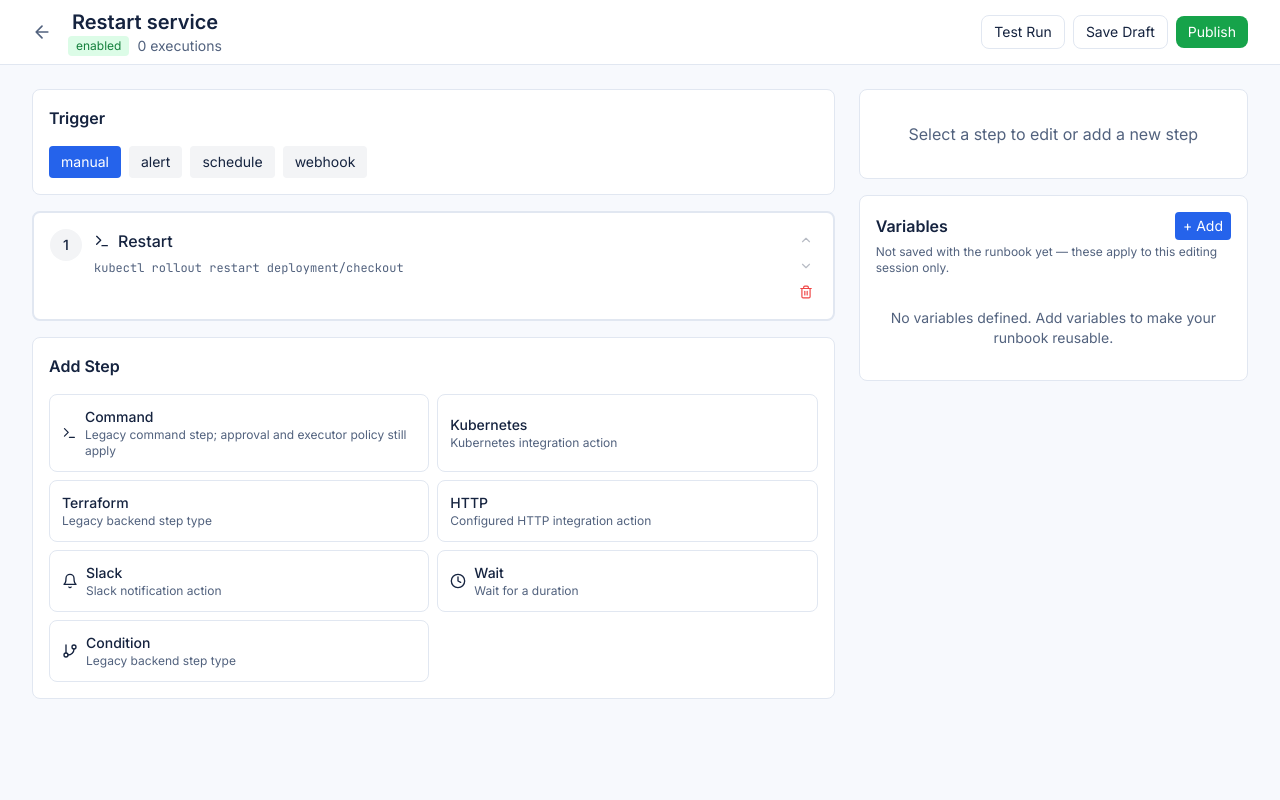
Test: RunbookBuilder save › tells the user when the save fails instead of pretending it worked
Click the button "Save Draft" at (1120, 32), box [1073,15,1168,49]
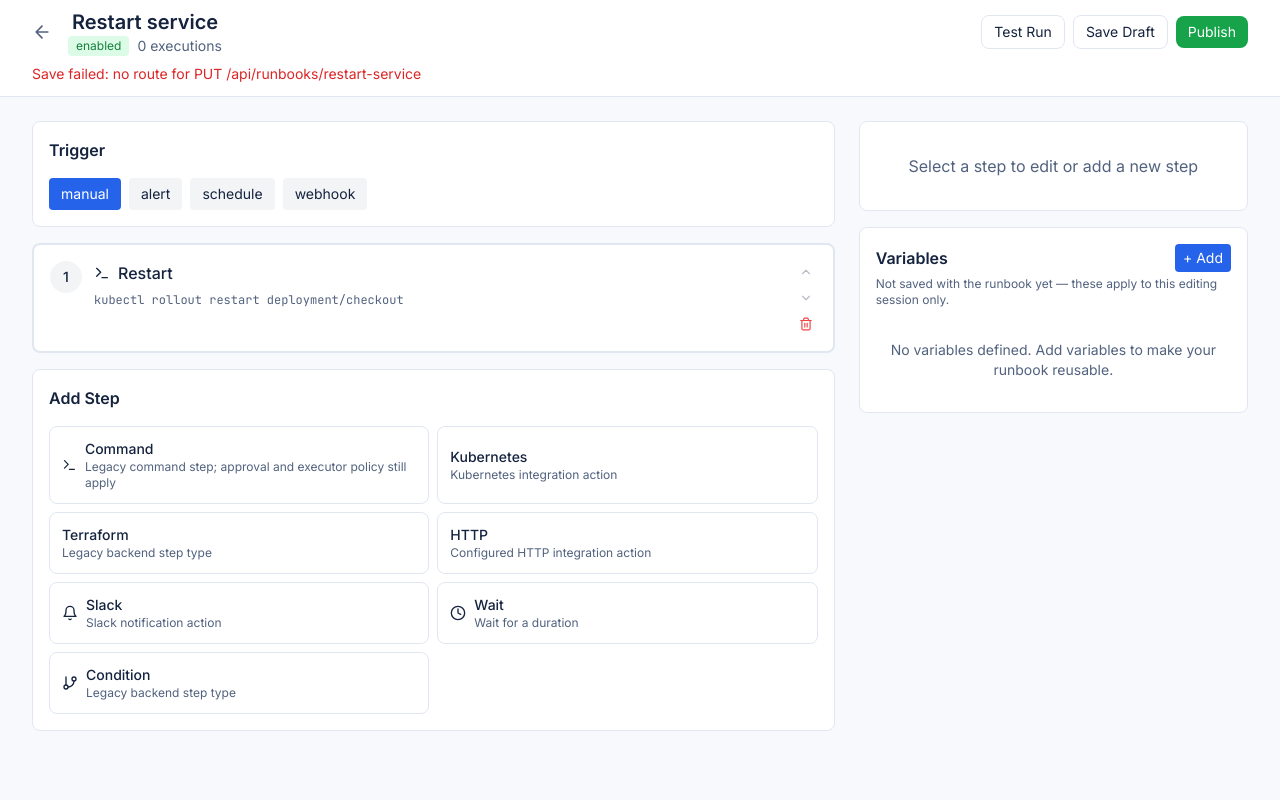
Now the message shows "Save failed", box [32,65,421,82]
